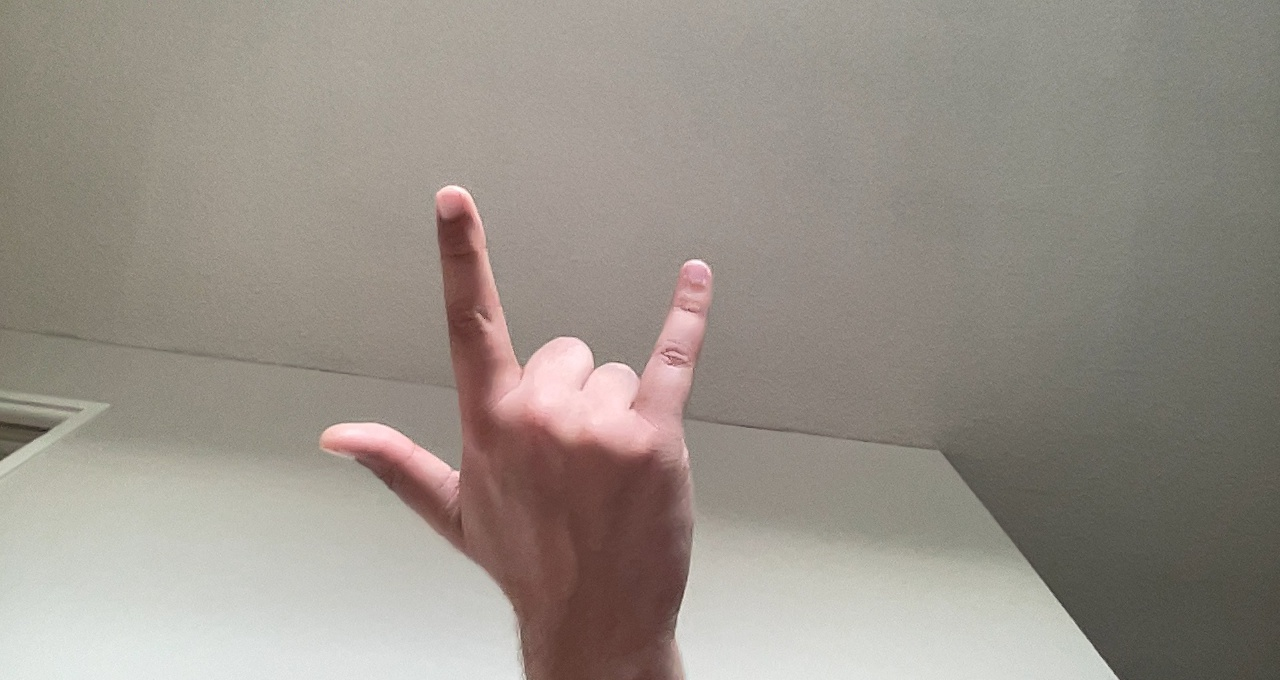rockon sign: (311, 178, 728, 632)
